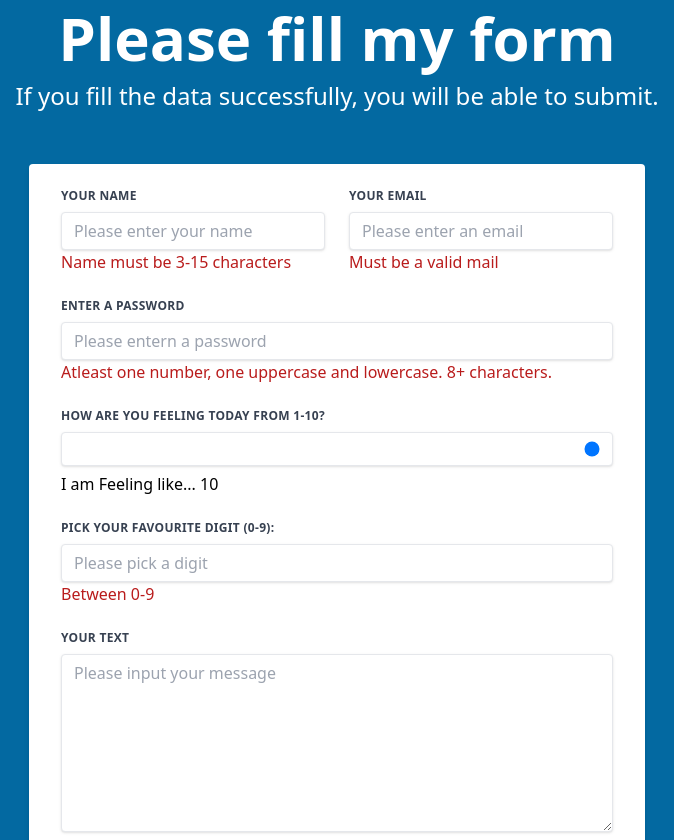
Test: checks if the value selected in the range field is displayed correctly below the field
Set the slider with test id "range_input_test" to "3" at (188, 449), box [61,432,613,466]
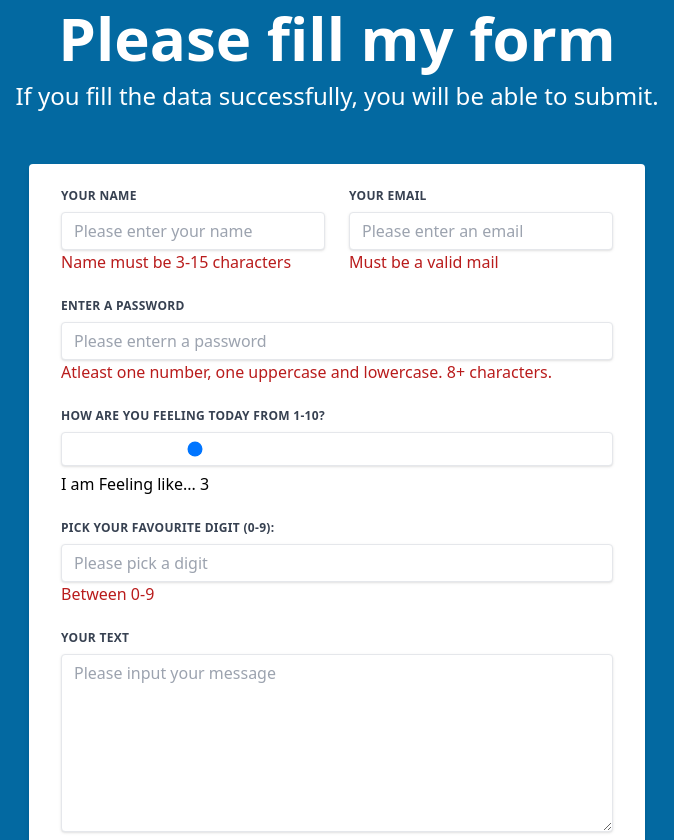
Expected: the text with test id "range_result_test_id" reads "3", [200,473,209,495]
